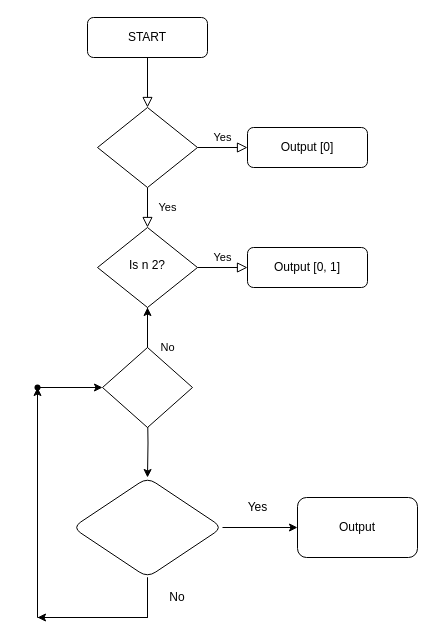
Some shapes in this 435 by 643 pixel diagram are drawn without their labels. Here are the shapes that lost their labels. From the top down, the box of each, then its label:
(96, 106, 198, 188): Is n 1?
(102, 346, 192, 428): Sum last two values
(72, 476, 222, 578): Does n equal number of items in output?
